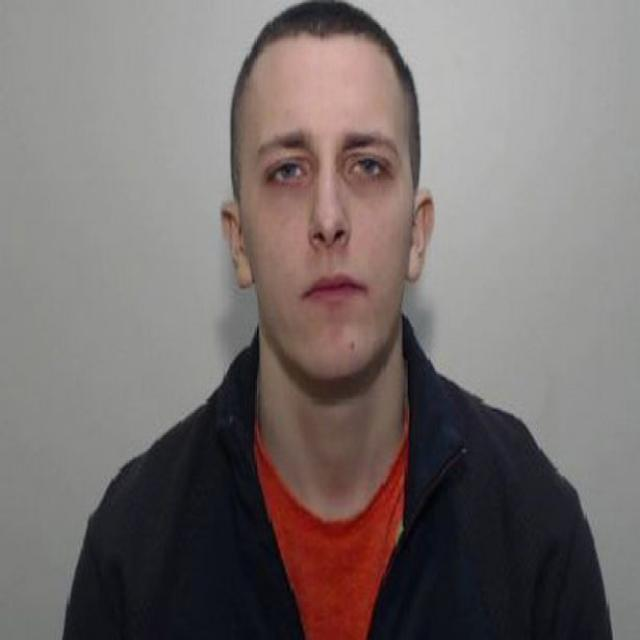mobile_phonerotation: (54, 0, 616, 638)
